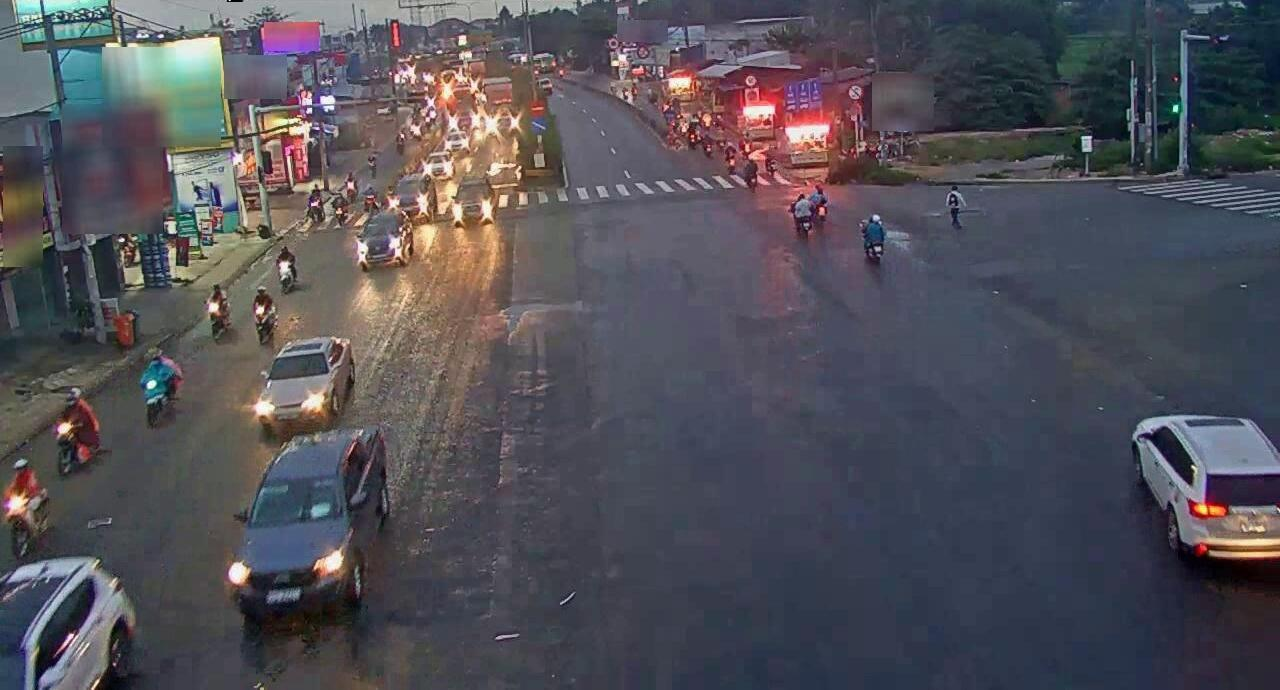xe hoi: (227, 427, 391, 616), (1139, 394, 1278, 568), (256, 335, 354, 427), (354, 209, 415, 270)
xe may: (48, 379, 101, 469), (0, 453, 44, 556), (139, 349, 179, 419), (245, 282, 280, 343), (858, 211, 891, 270), (791, 187, 820, 245), (203, 282, 231, 338)
